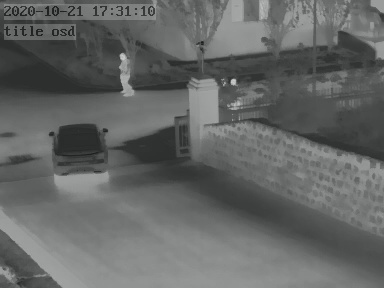person: (117, 52, 134, 97)
vehicle: (48, 121, 108, 178)
